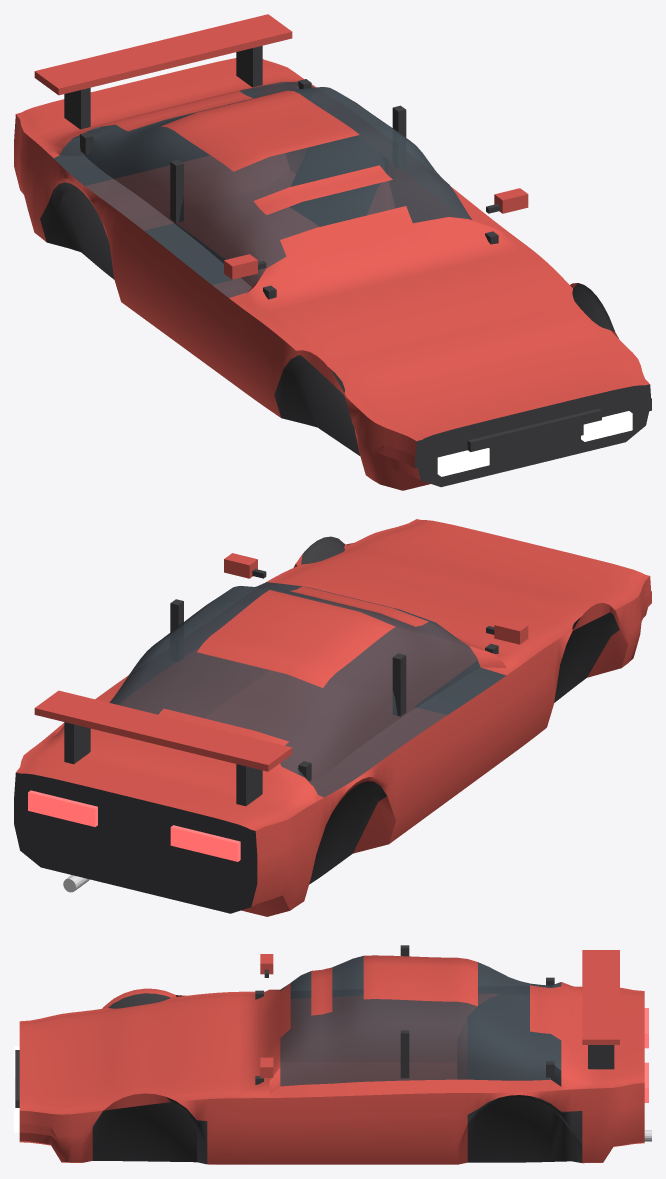
Rendered from coupe.glb.
The picture shows the model from 3 angles, top to bottom: view 1: azimuth 30°, elevation 25°; view 2: azimuth 150°, elevation 25°; view 3: azimuth 270°, elevation 25°; orthographic projection. The views are drawn at different scales.
Visible parts, largest first — view 1: Body, Wing, Grille, HeadLamp, HeadLamp.001, WingStay, WingStay.001, BPillar.001, Mirror; view 2: Body, Wing, TailLamp, TailLamp.001, WingStay, WingStay.001, BPillar.001, Mirror, Mirror.001, BPillar; view 3: Body, Wing, WingStay.001, BPillar.
Boxes of the visible parts, bbox=[...] form: Body: bbox=[14, 58, 651, 490]; Wing: bbox=[34, 14, 292, 95]; Grille: bbox=[467, 408, 601, 457]; HeadLamp: bbox=[437, 448, 489, 476]; HeadLamp.001: bbox=[581, 411, 632, 441]; WingStay: bbox=[64, 87, 90, 129]; WingStay.001: bbox=[236, 45, 262, 87]; BPillar.001: bbox=[170, 160, 183, 222]; Mirror: bbox=[224, 254, 257, 279]; Body: bbox=[14, 519, 651, 916]; Wing: bbox=[34, 690, 292, 771]; TailLamp: bbox=[170, 825, 240, 861]; TailLamp.001: bbox=[28, 790, 97, 826]; WingStay: bbox=[236, 764, 262, 806]; WingStay.001: bbox=[64, 722, 90, 764]; BPillar.001: bbox=[392, 653, 406, 716]; Mirror: bbox=[494, 619, 528, 644]; Mirror.001: bbox=[224, 553, 257, 578]; BPillar: bbox=[170, 599, 183, 661]; Body: bbox=[19, 955, 644, 1164]; Wing: bbox=[582, 950, 619, 1044]; WingStay.001: bbox=[588, 1045, 614, 1069]; BPillar: bbox=[400, 1030, 409, 1078].
Bounding box in the file's own units: 1.85 × 1.07 × 4.39.
